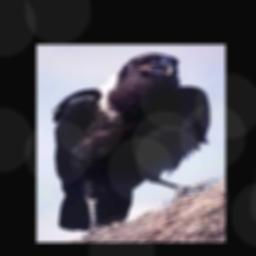Crow: (49, 51, 214, 236)
